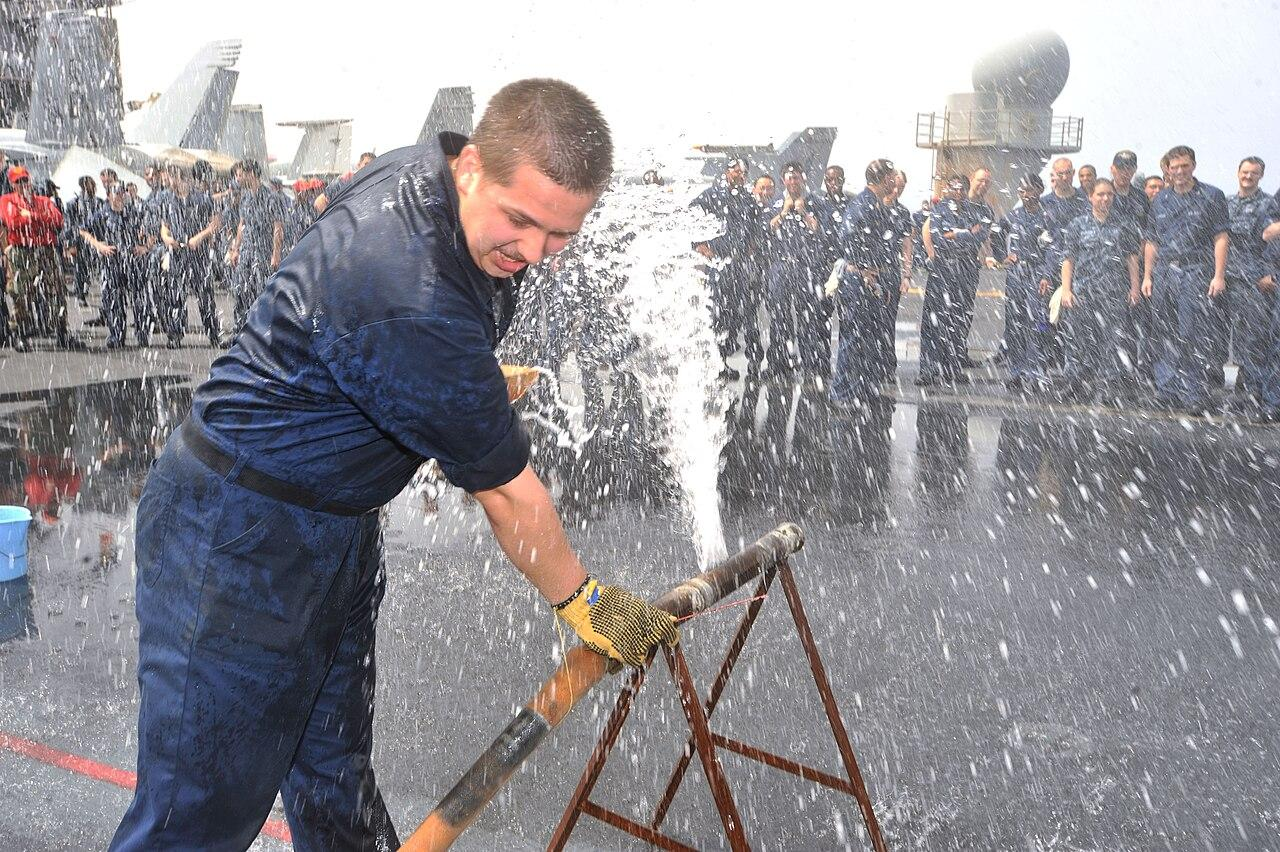pipe burst: (587, 152, 736, 577)
water accumulation: (1, 373, 1280, 532)
